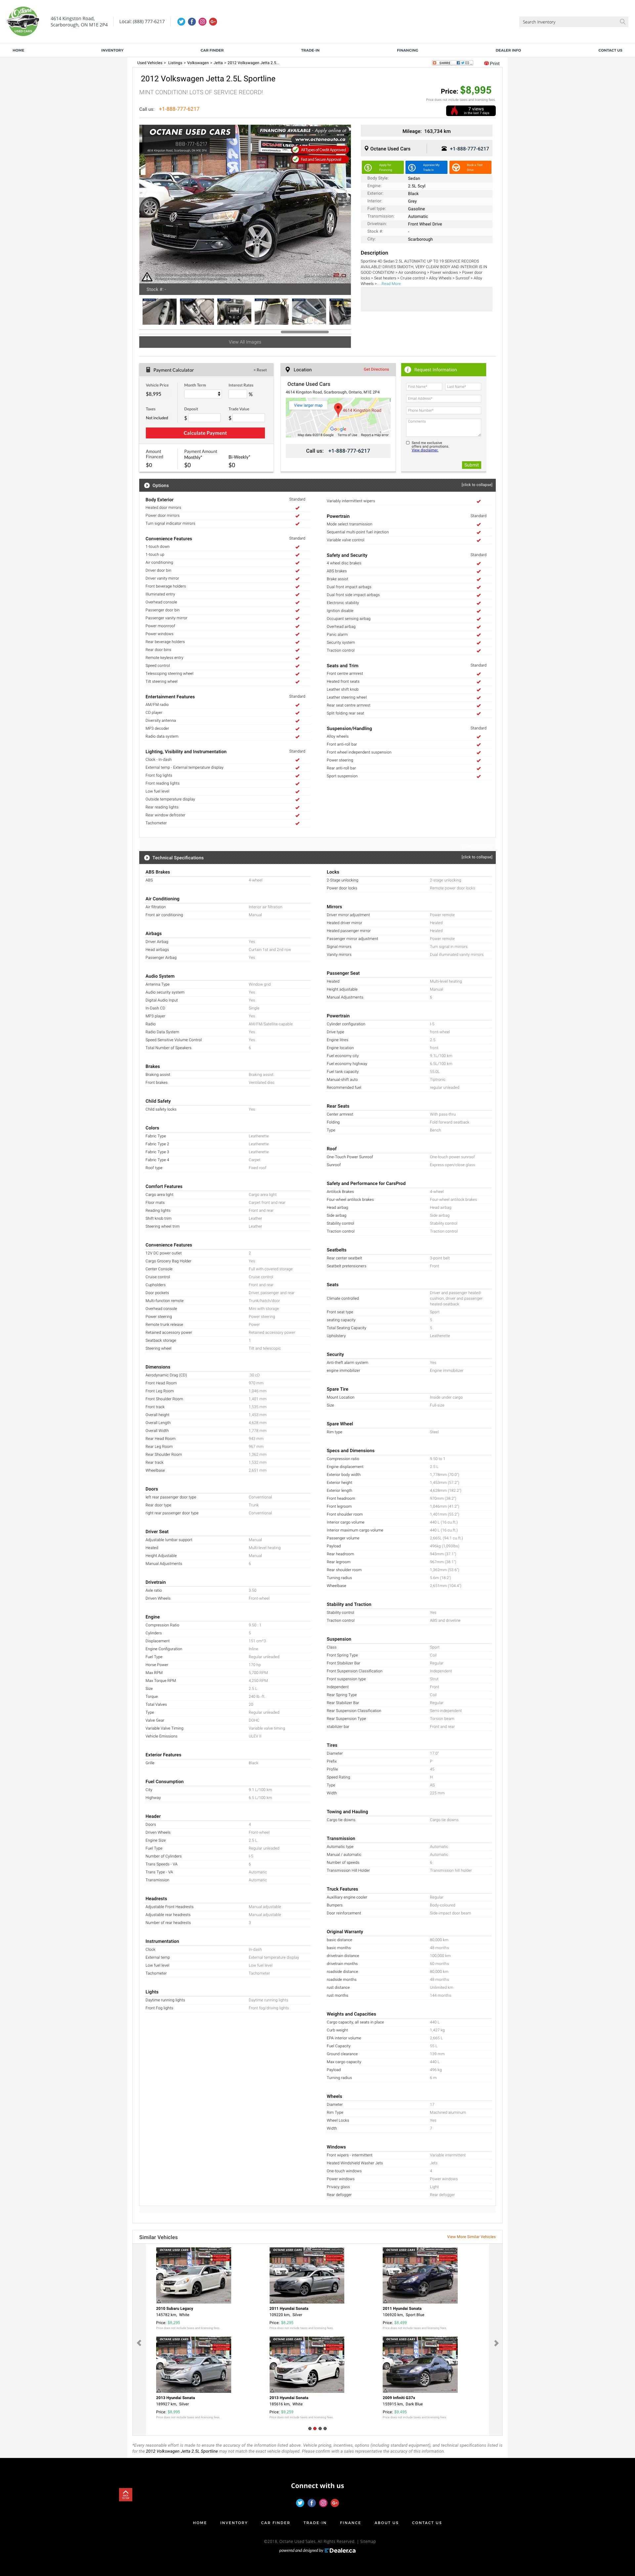car: (342, 200, 349, 209)
